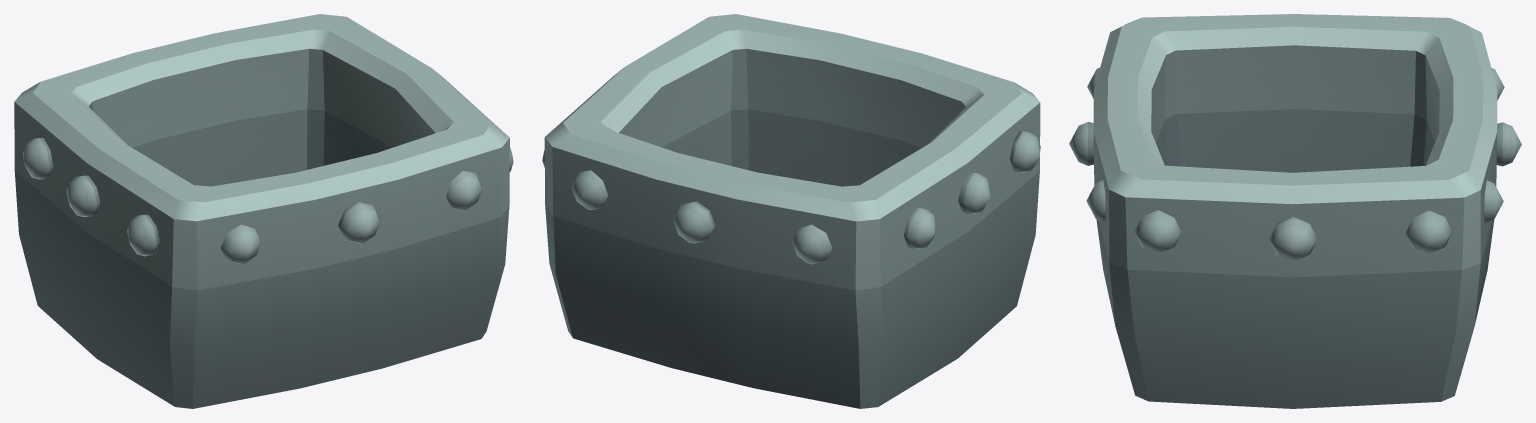
The model's file is bucket.fbx.
3 renders of one model, left to right at view 1: azimuth 30°, elevation 25°; view 2: azimuth 150°, elevation 25°; view 3: azimuth 270°, elevation 25°, orthographic. The views are drawn at different scales.
Visible parts, largest first — view 1: bucket; view 2: bucket; view 3: bucket.
Part boxes in pixels (bbox=[...]): bucket: bbox=[14, 14, 513, 408]; bucket: bbox=[542, 14, 1040, 408]; bucket: bbox=[1069, 14, 1521, 408].
Bounding box in the file's own units: 224 × 115 × 210.
